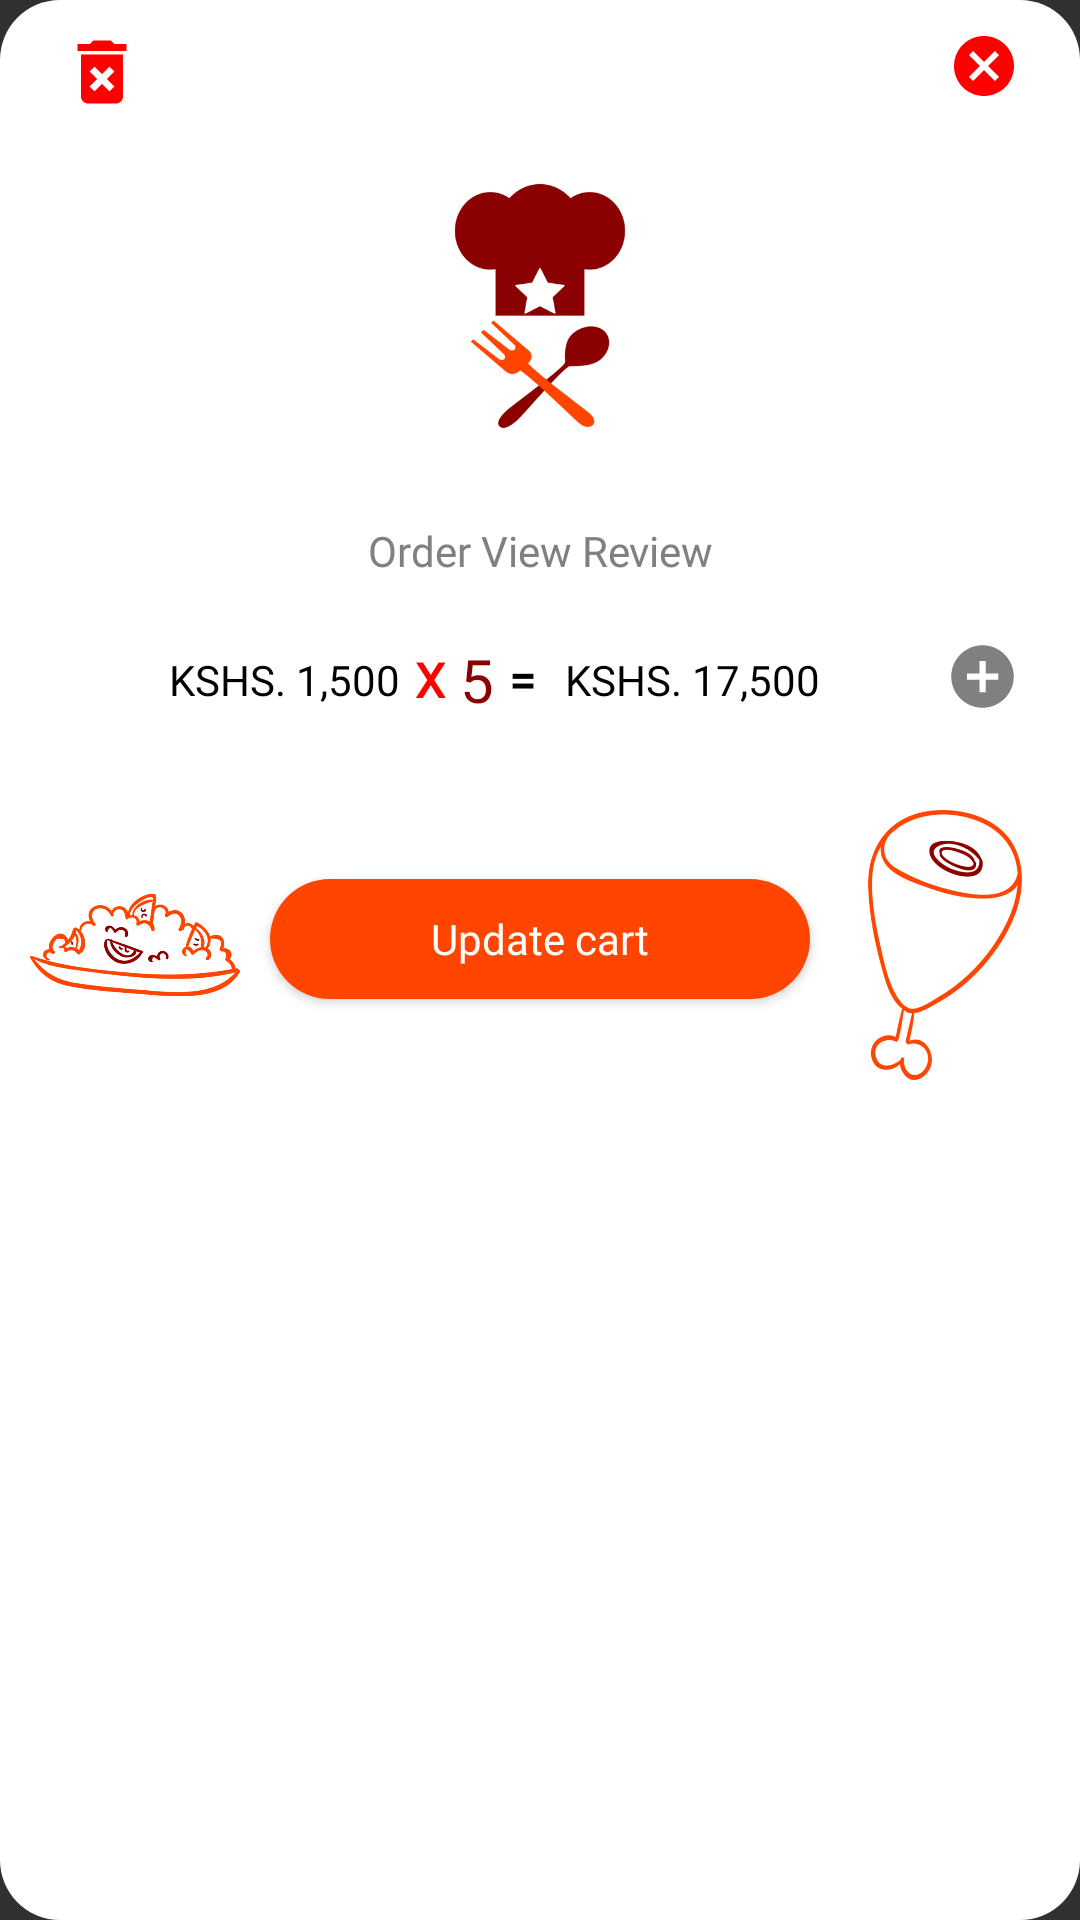

Where icons sit on this 1080x1920 app screen, as region(x1, y1, x2, y2):
add circle: region(951, 645, 1014, 708)
cancel: region(954, 36, 1014, 96)
delete forever: region(77, 40, 127, 104)
steak: region(868, 810, 1022, 1080)
